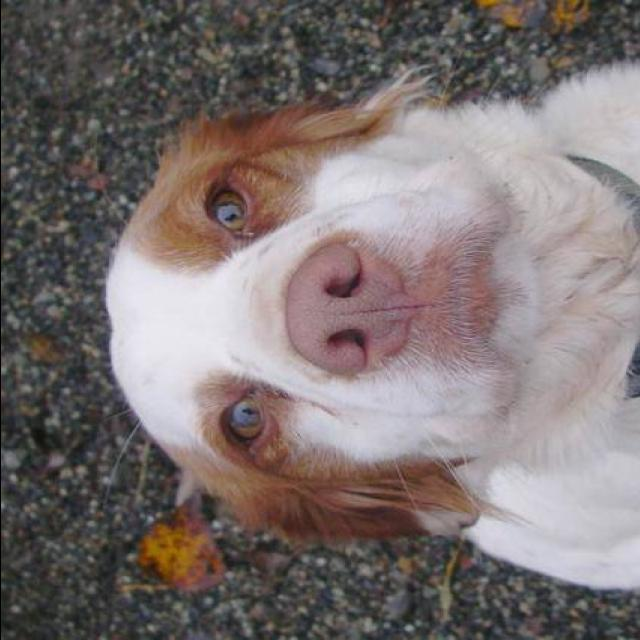dog: (81, 53, 640, 640)
